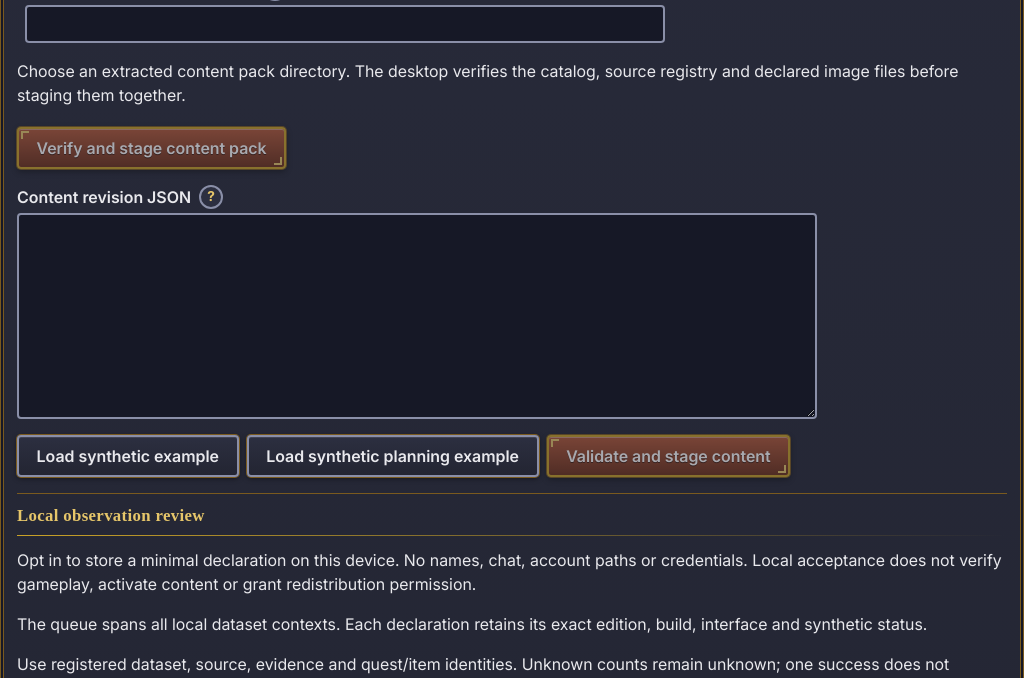
Scenario: failed staging preserves active data and supports retry
(page scrolled)
In the text box labelled "Content revision JSON": (417, 316) [17, 213, 817, 418], type "bad"
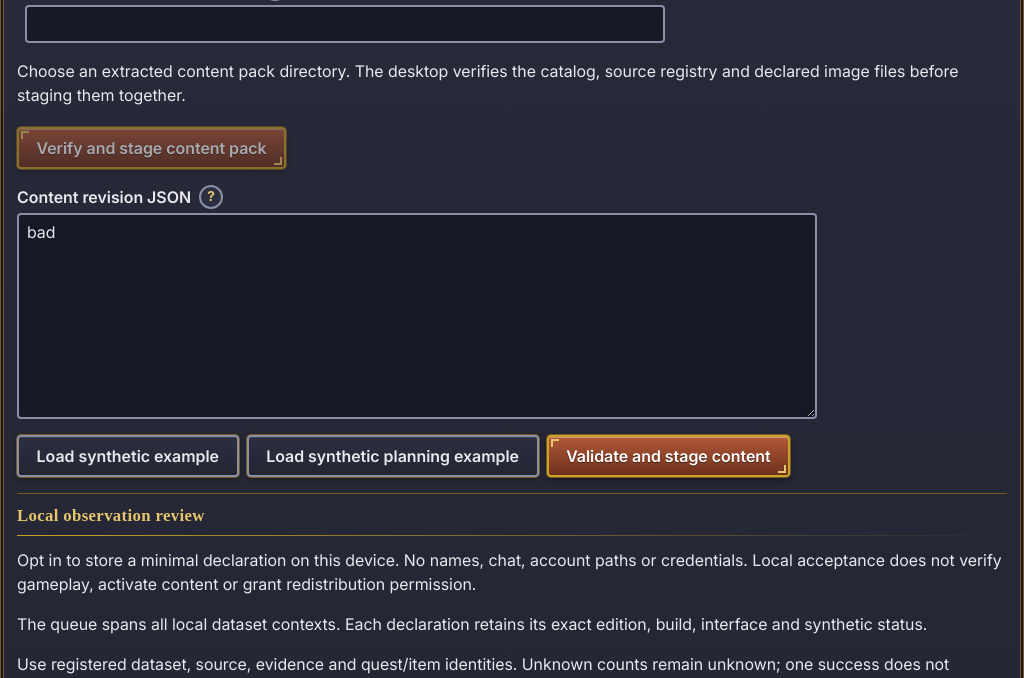
Click the button "Validate and stage content": (668, 456) [546, 434, 790, 477]
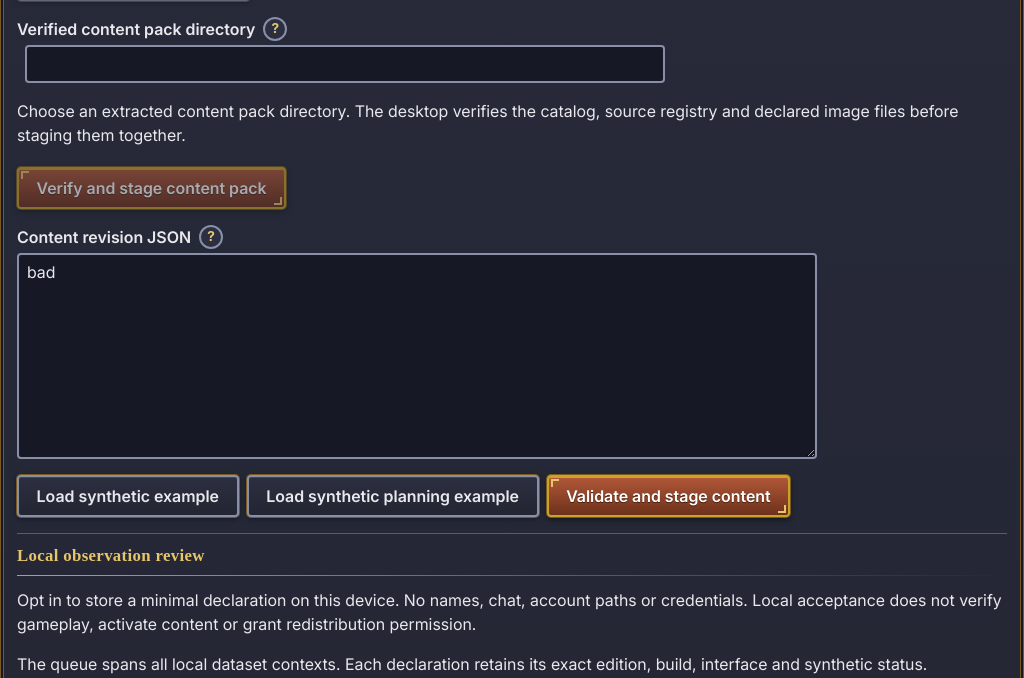
expect the button "Validate and stage content" is enabled: met
Click the button "Validate and stage content": (668, 496) [546, 474, 790, 517]
(page scrolled)
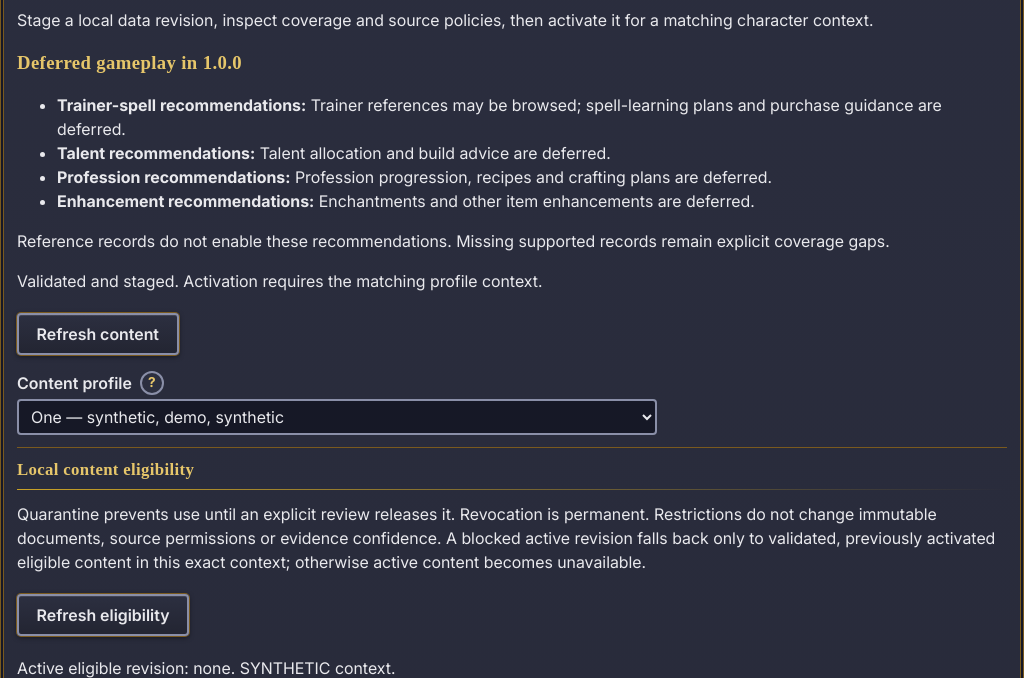
expect the text "Validated and staged. Activation requires the matching profile context." is shown: met, box [17, 271, 542, 291]
